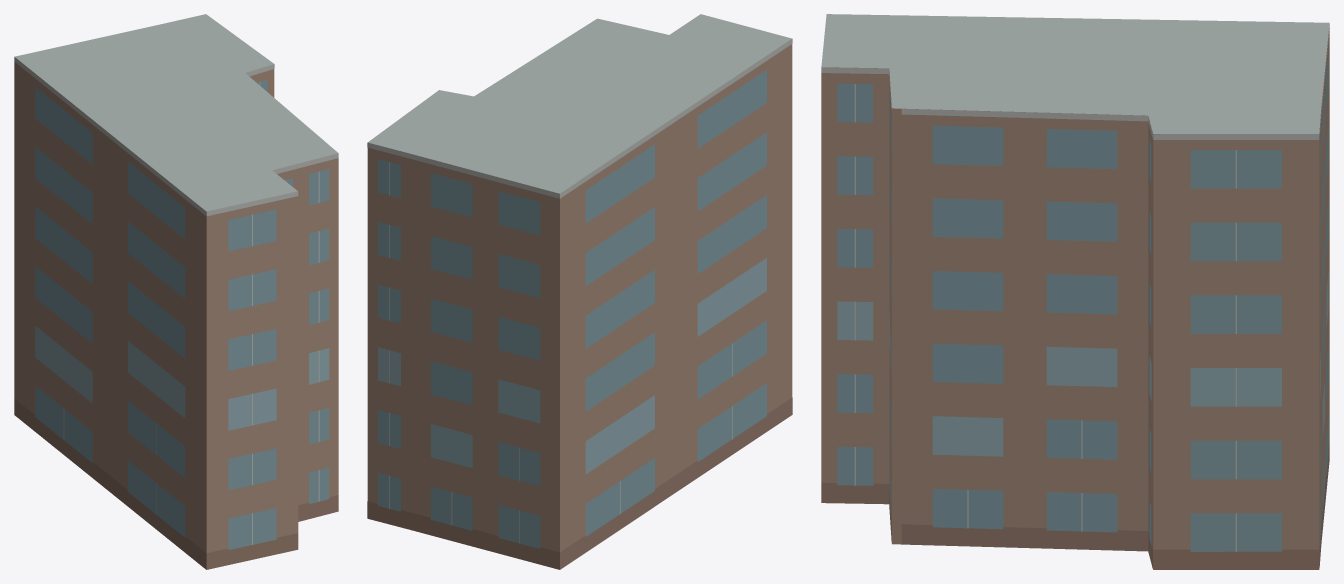
File: survey-upis-32663211.glb
The picture shows the model from 3 angles, left to right: view 1: azimuth 30°, elevation 25°; view 2: azimuth 150°, elevation 25°; view 3: azimuth 270°, elevation 25°; orthographic projection. The views are drawn at different scales.
Visible parts, largest first — view 1: survey-upis-32663211.tmp; view 2: survey-upis-32663211.tmp; view 3: survey-upis-32663211.tmp.
Part boxes in pixels (x1,y1,x2,y2): survey-upis-32663211.tmp: (14,14,338,569); survey-upis-32663211.tmp: (367,14,792,569); survey-upis-32663211.tmp: (821,14,1329,569).
Size of the model in its own units: 10.76 by 18.2 by 19.25.
